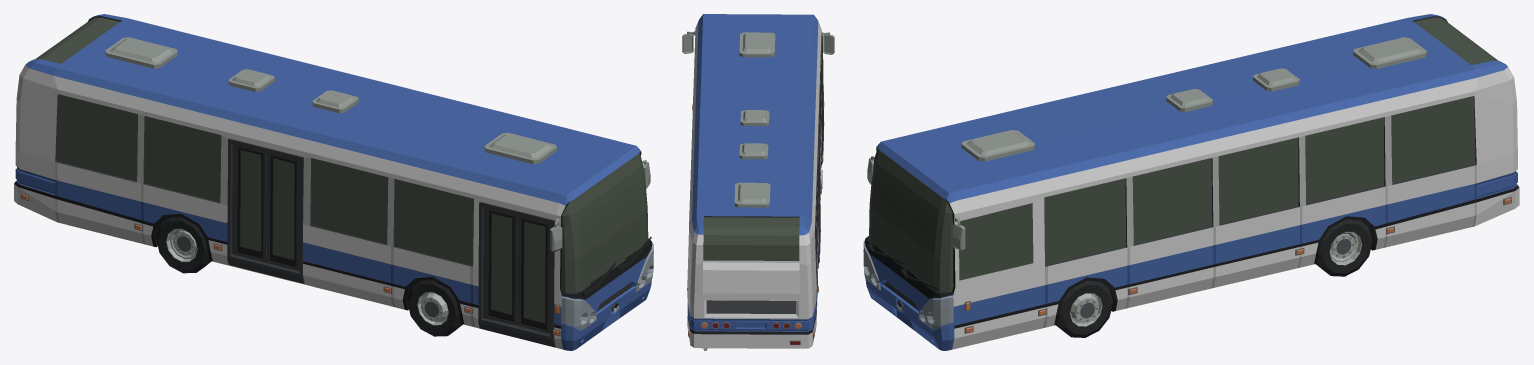
Rendered from Bus_1.gltf.
The picture shows the model from 3 angles, left to right: view 1: azimuth 30°, elevation 25°; view 2: azimuth 150°, elevation 25°; view 3: azimuth 270°, elevation 25°; orthographic projection. The views are drawn at different scales.
Visible parts, largest first — view 1: Bus_01; view 2: Bus_01; view 3: Bus_01.
Part boxes in pixels (bbox=[...]): Bus_01: bbox=[14, 14, 653, 350]; Bus_01: bbox=[682, 14, 834, 350]; Bus_01: bbox=[863, 14, 1519, 350].
Size of the model in its own units: 0.7804 by 0.3327 by 1.1.
Materials: 1 (1 with a texture image).
